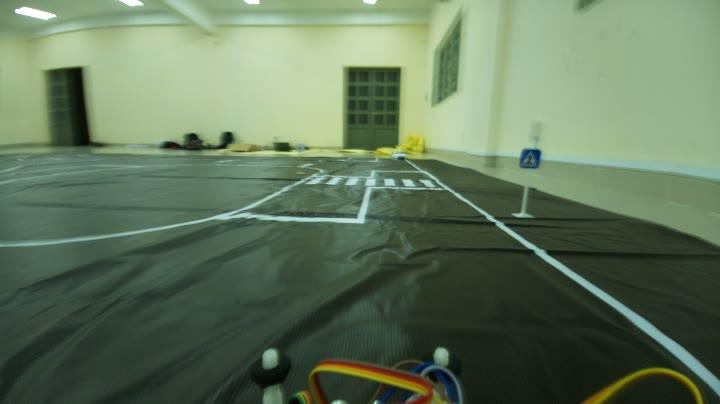crosswalk: (514, 144, 545, 172)
